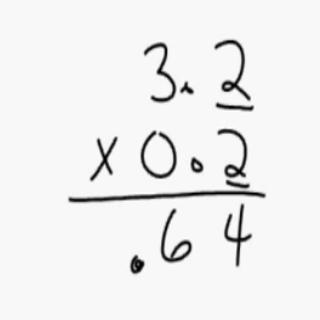.: (123, 250, 153, 279), (178, 74, 197, 102), (190, 151, 208, 180)
0: (135, 122, 184, 182)
2: (207, 29, 259, 102), (210, 121, 253, 182)
3: (138, 31, 179, 106)
4: (212, 199, 258, 277)
6: (159, 207, 198, 267)
